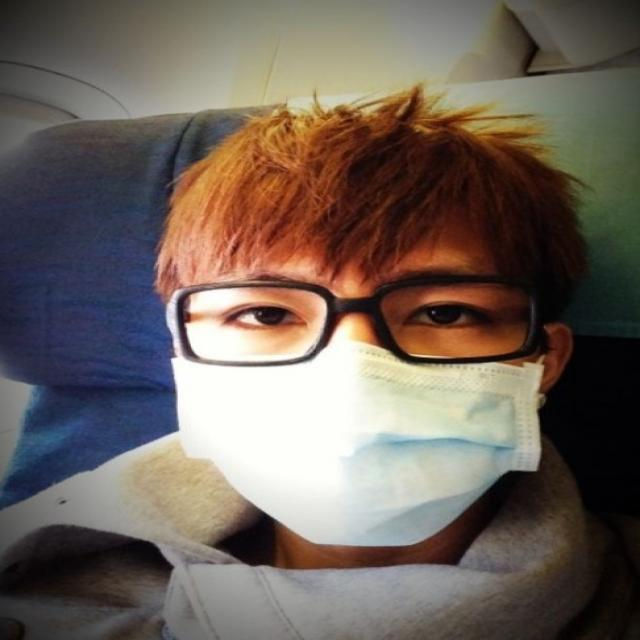mask: (186, 230, 533, 542)
